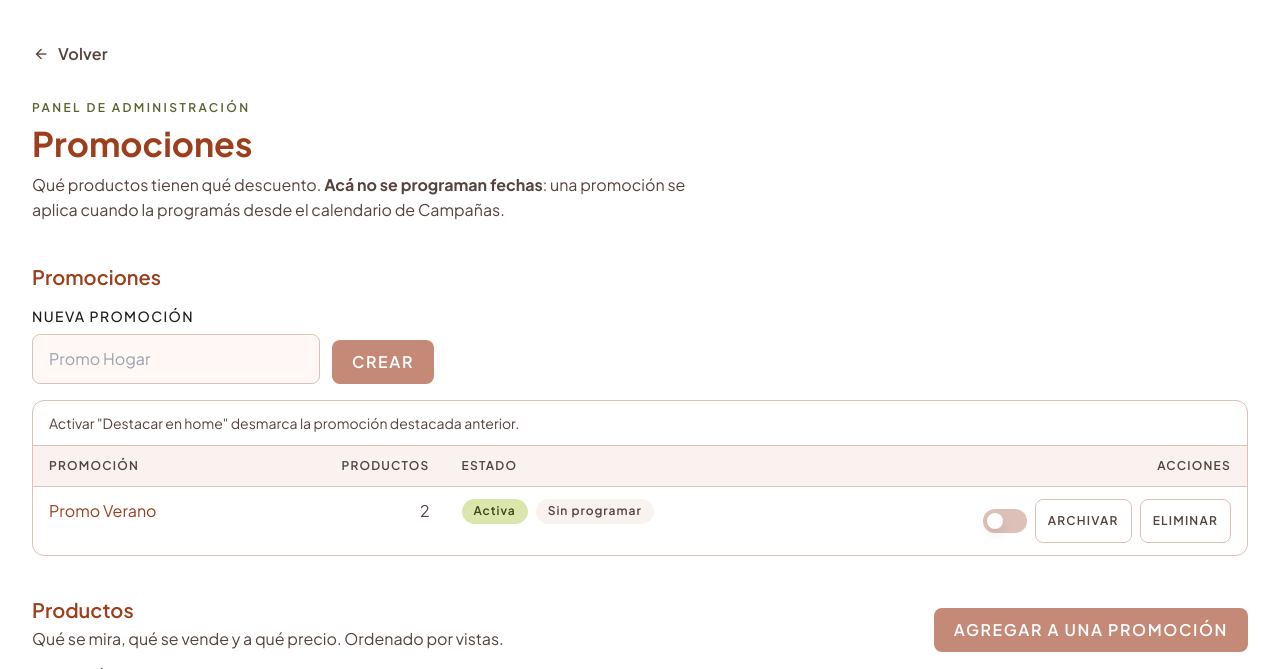
Test: AdminPromociones — switch de home › un fallo al togglear muestra el mensaje del backend
Expected: the button "Promo Verano" is shown, x1=49 y1=499 x2=157 y2=524
What coordinates should you click on to do the following:
click the switch named "Destacar Promo Verano en la home"
I would click on:
 (1005, 521)
Its box is x1=983 y1=509 x2=1027 y2=533.
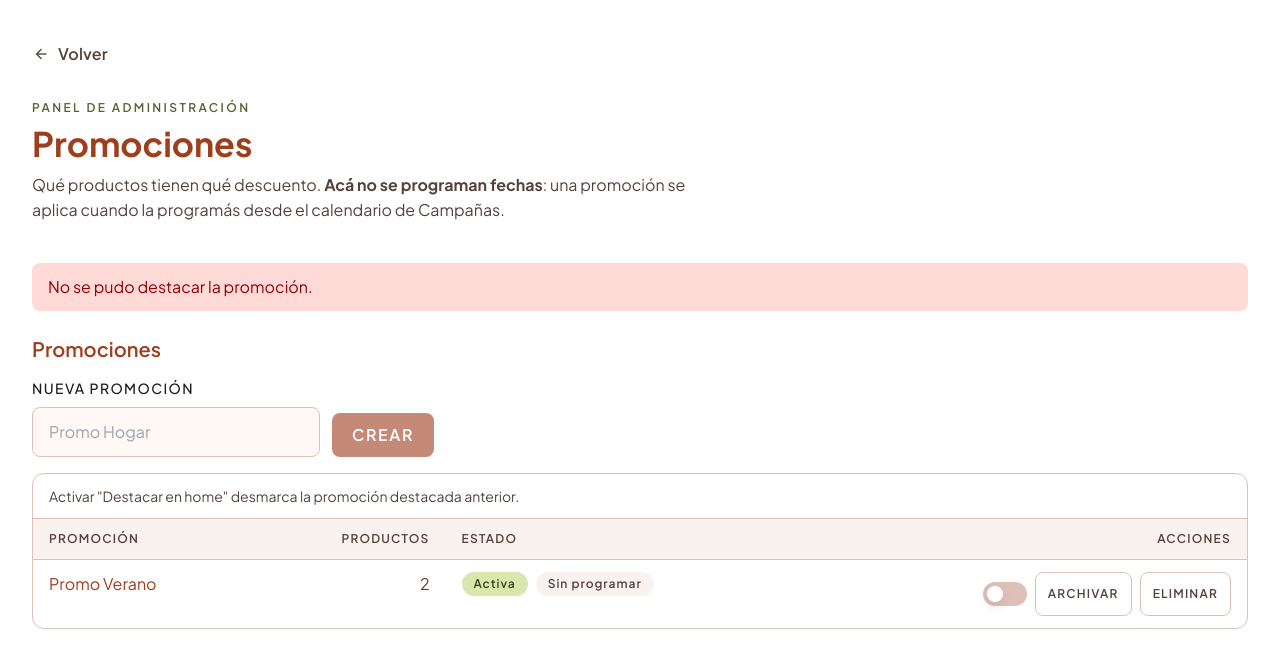
Expected: the text "No se pudo destacar la promoción." is shown, x1=32 y1=263 x2=1248 y2=311
